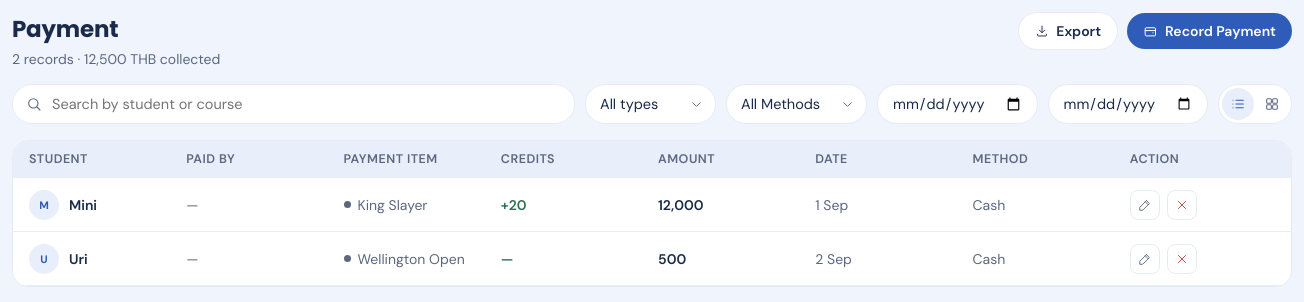
Test: filtering payments by type › shows only tournament fees, or only course payments
This screenshot has width=1304, height=302.
Expected: the text "Mini" is shown, [69,196,97,214]
Expected: the text "Uri" is shown, [69,250,88,268]
Select "Tournament" in the dropdown named "Type": x=650, y=104 [585,84,716,124]
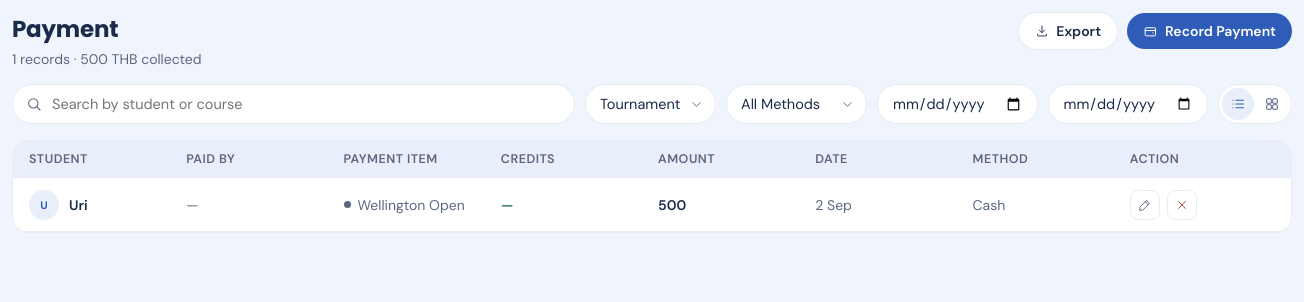
Expected: the text "Uri" is shown, [69,196,88,214]
Now the text "Mini" is gone
Select "Course" in the dropdown named "Type": x=650, y=104 [585,84,716,124]
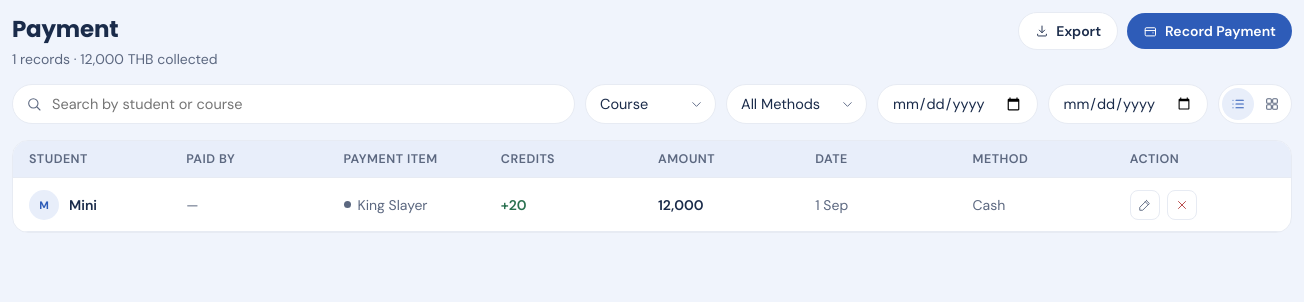
Now the text "Mini" is shown, box [69,196,97,214]
Now the text "Uri" is gone
